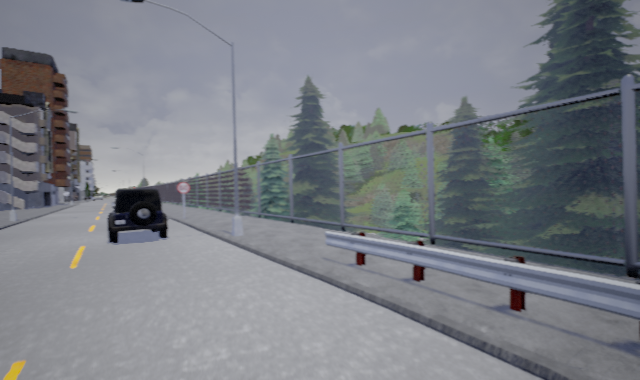vehicle: (106, 187, 171, 246)
